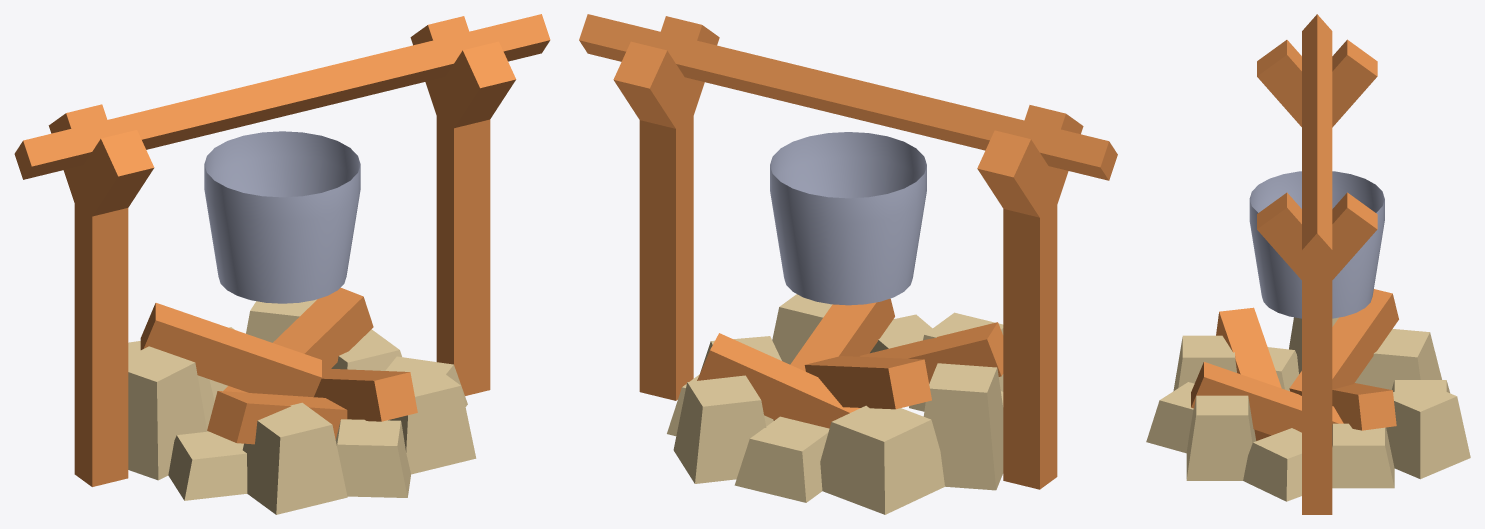
File: Campfire.glb
The picture shows the model from 3 angles, left to right: view 1: azimuth 30°, elevation 25°; view 2: azimuth 150°, elevation 25°; view 3: azimuth 270°, elevation 25°; orthographic projection. The views are drawn at different scales.
Parts seen in each view (by area): view 1: campfire, rocks, bucket, wood; view 2: campfire, rocks, bucket, wood; view 3: rocks, campfire, wood, bucket.
Boxes of the visible parts, x1,y1,x2,y2 form: campfire: (14,14,550,486); rocks: (128,299,476,514); bucket: (204,131,360,303); wood: (140,287,417,444); campfire: (579,14,1117,489); rocks: (667,294,1003,514); bucket: (770,132,926,305); wood: (697,298,1003,428); rocks: (1146,317,1470,501); campfire: (1257,14,1377,514); wood: (1191,289,1398,440); bucket: (1249,171,1384,318).
Size of the model in its own units: 0.43 by 0.2812 by 0.2692.
